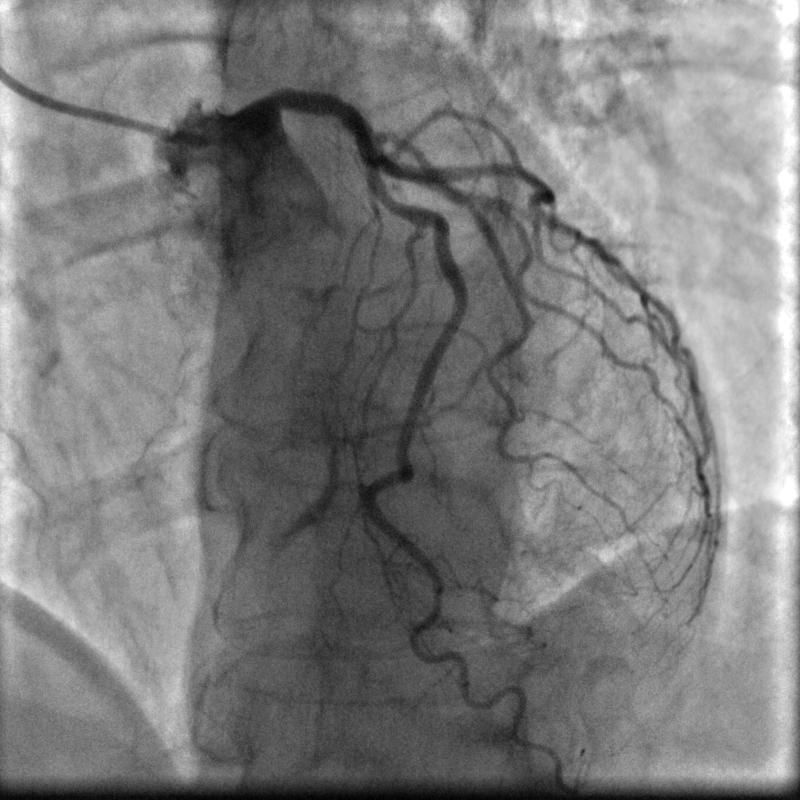Stenosis: (371, 183, 400, 208)
